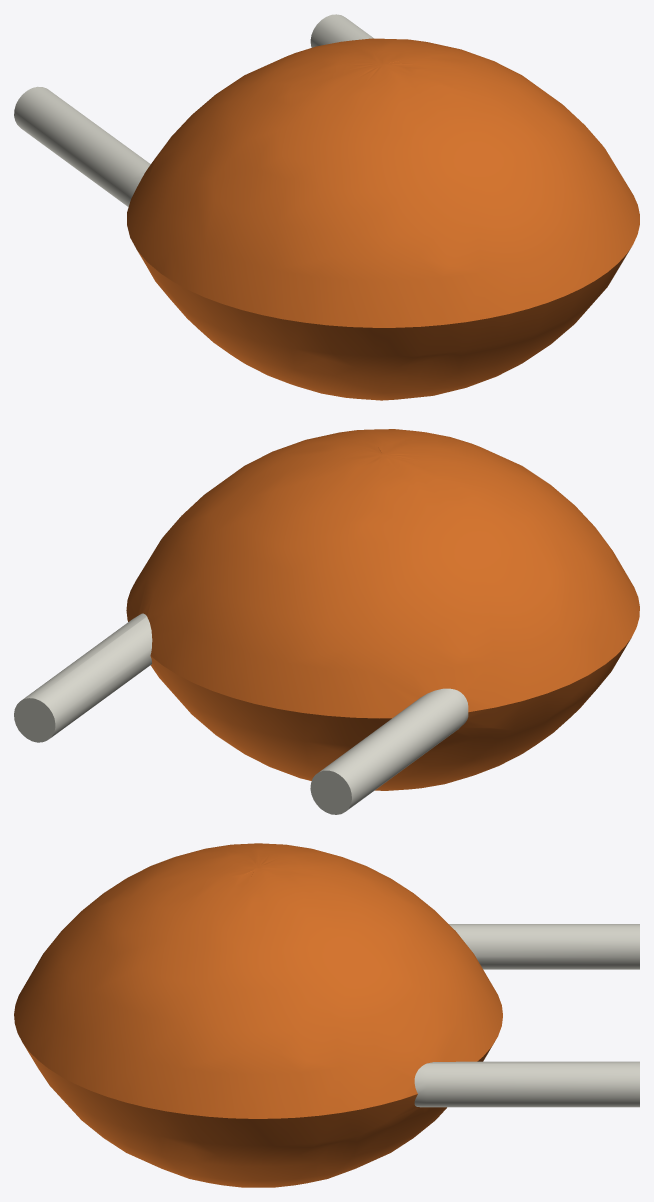
Rendered from c-disc-d7.5-w5.0-p5.00.glb.
The picture shows the model from 3 angles, top to bottom: view 1: azimuth 30°, elevation 25°; view 2: azimuth 150°, elevation 25°; view 3: azimuth 270°, elevation 25°; orthographic projection. The views are drawn at different scales.
Parts seen in each view (by area): view 1: PLASTIC-ORANGE-01, PIN-01; view 2: PLASTIC-ORANGE-01, PIN-01; view 3: PLASTIC-ORANGE-01, PIN-01.
Part boxes in pixels (x1,y1,x2,y2): PLASTIC-ORANGE-01: (127,38,639,400); PIN-01: (14,14,373,206); PLASTIC-ORANGE-01: (126,429,639,790); PIN-01: (14,613,468,814); PLASTIC-ORANGE-01: (14,843,502,1187); PIN-01: (414,924,639,1107).
Bounding box in the file's own units: 7.5 × 5 × 9.6.
